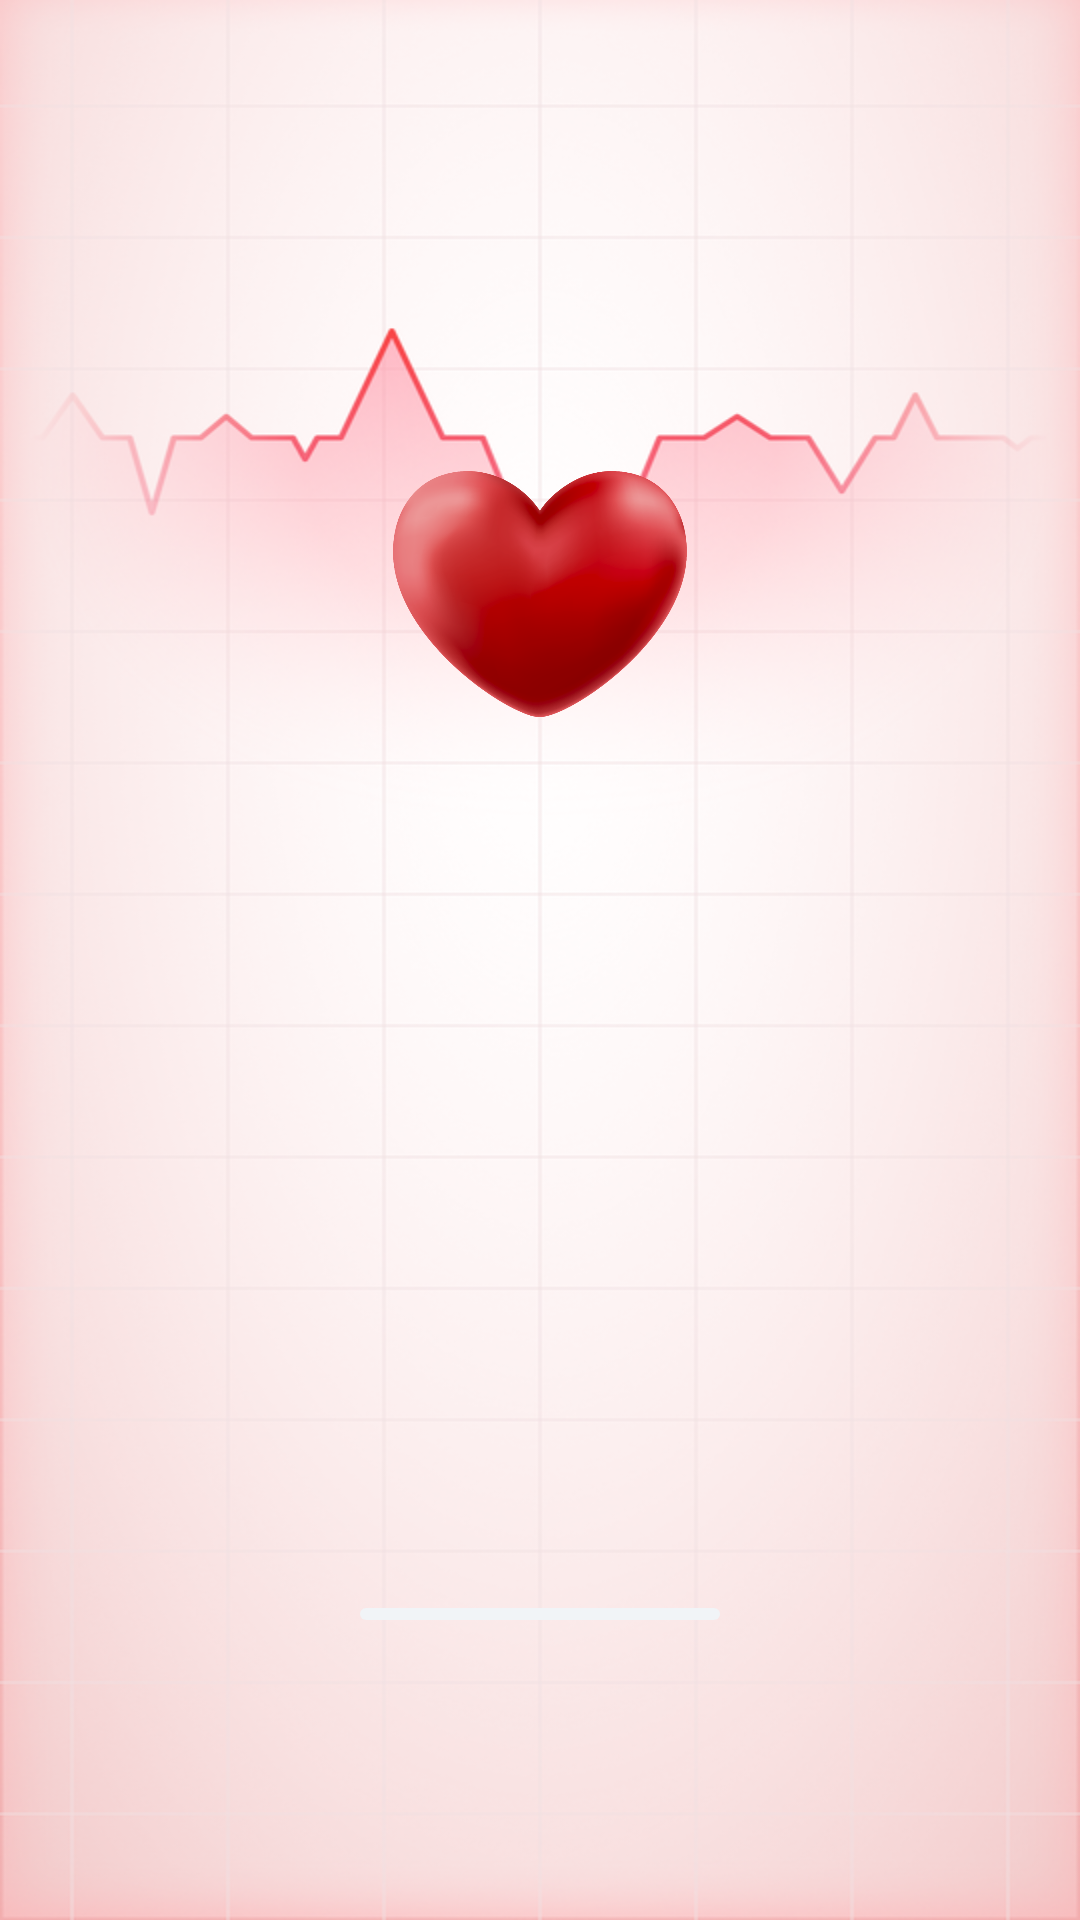

Point at icon controls on the screen. Image size 1080*1920, points as point (x, y).
heart: point (540, 580)
